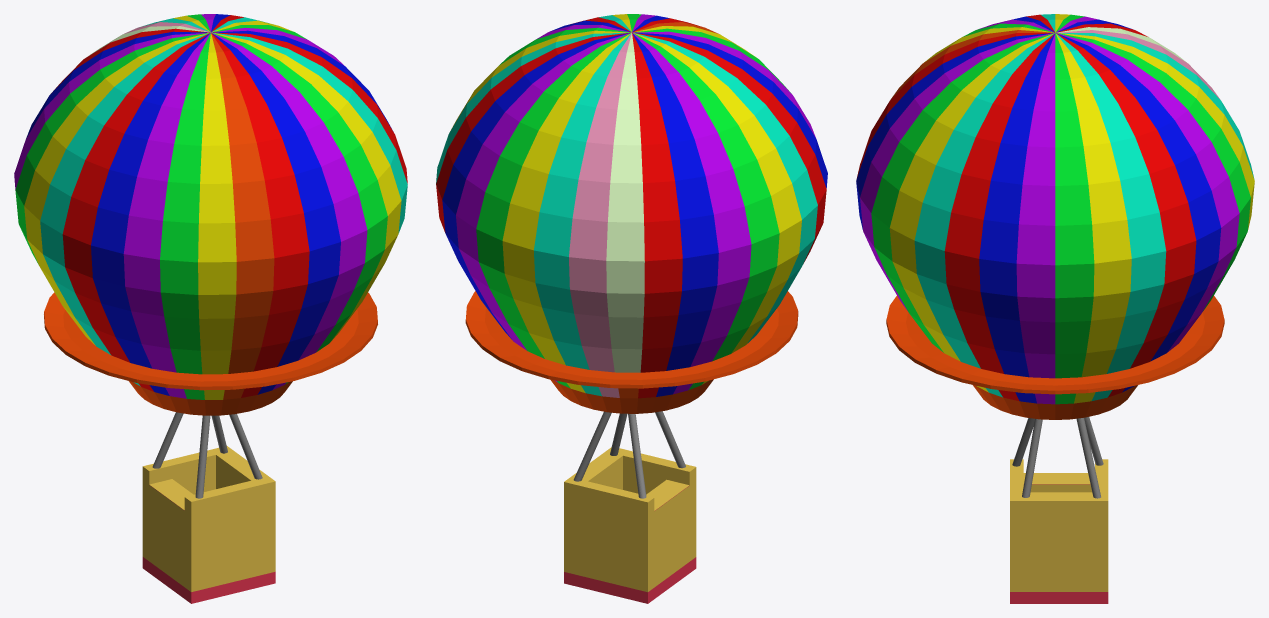
The picture shows the model from 3 angles, left to right: view 1: azimuth 30°, elevation 25°; view 2: azimuth 150°, elevation 25°; view 3: azimuth 270°, elevation 25°; orthographic projection.
Visible parts, largest first — view 1: Esfera, Cubo, Cilindro.003, Cilindro.002; view 2: Esfera, Cubo, Cilindro, Cilindro.001; view 3: Esfera, Cubo, Cilindro.001, Cilindro.002.
Part boxes in pixels (left/top/right/bottom): Esfera: left=14, top=14, right=407, bottom=415; Cubo: left=142, top=446, right=275, bottom=603; Cilindro.003: left=195, top=415, right=210, bottom=498; Cilindro.002: left=229, top=414, right=262, bottom=479; Esfera: left=436, top=14, right=827, bottom=413; Cubo: left=564, top=447, right=696, bottom=603; Cilindro: left=628, top=413, right=646, bottom=498; Cilindro.001: left=573, top=411, right=611, bottom=481; Esfera: left=856, top=14, right=1254, bottom=419; Cubo: left=1010, top=459, right=1108, bottom=603; Cilindro.001: left=1076, top=418, right=1100, bottom=498; Cilindro.002: left=1022, top=419, right=1042, bottom=497.
Size of the model in its own units: 1.96 by 2.99 by 1.96.
